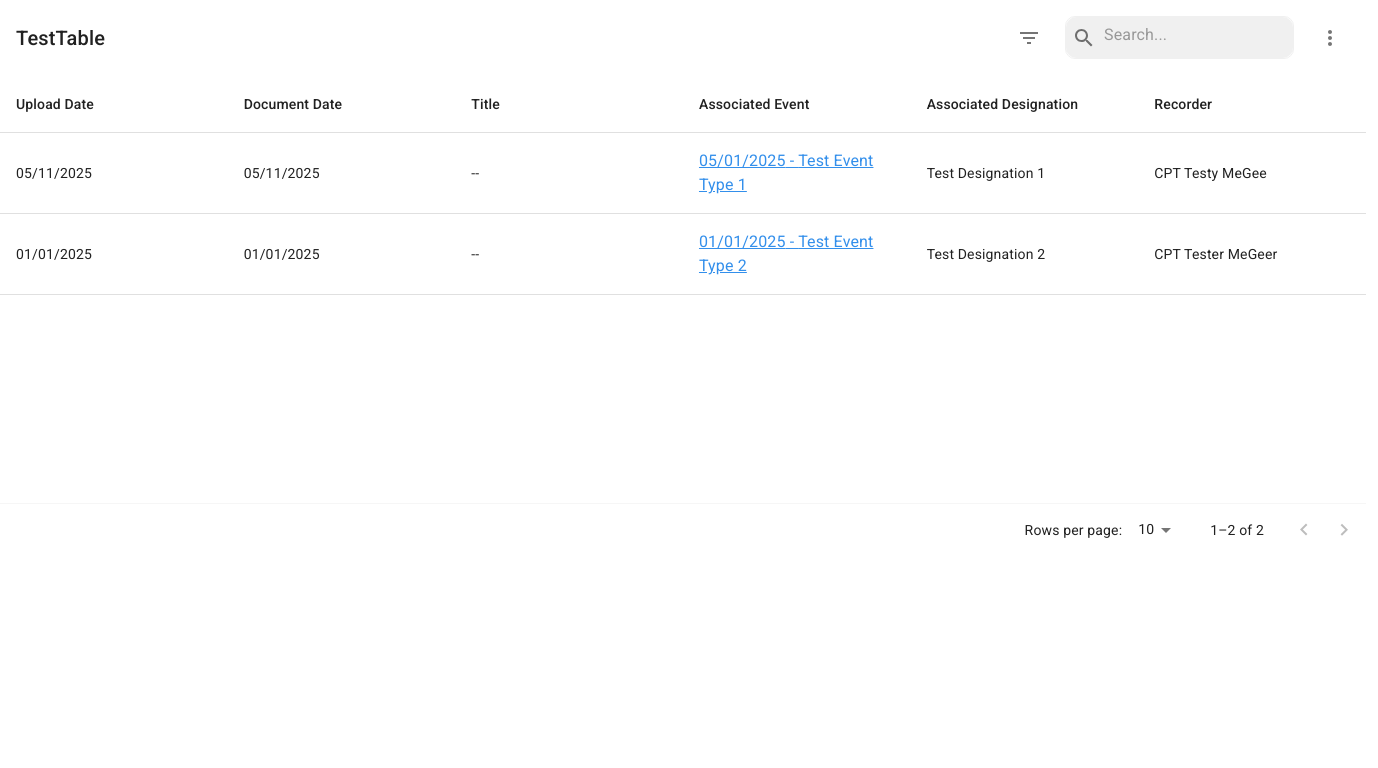
Scenario: AmtpTable Component › Suppporting Docs Table filters data based on query
The width and height of the screenshot is (1378, 768).
# Search for "Testy"
Type "Testy" into the field with placeholder "Search..." at (1196, 38), box [1104, 23, 1287, 52]
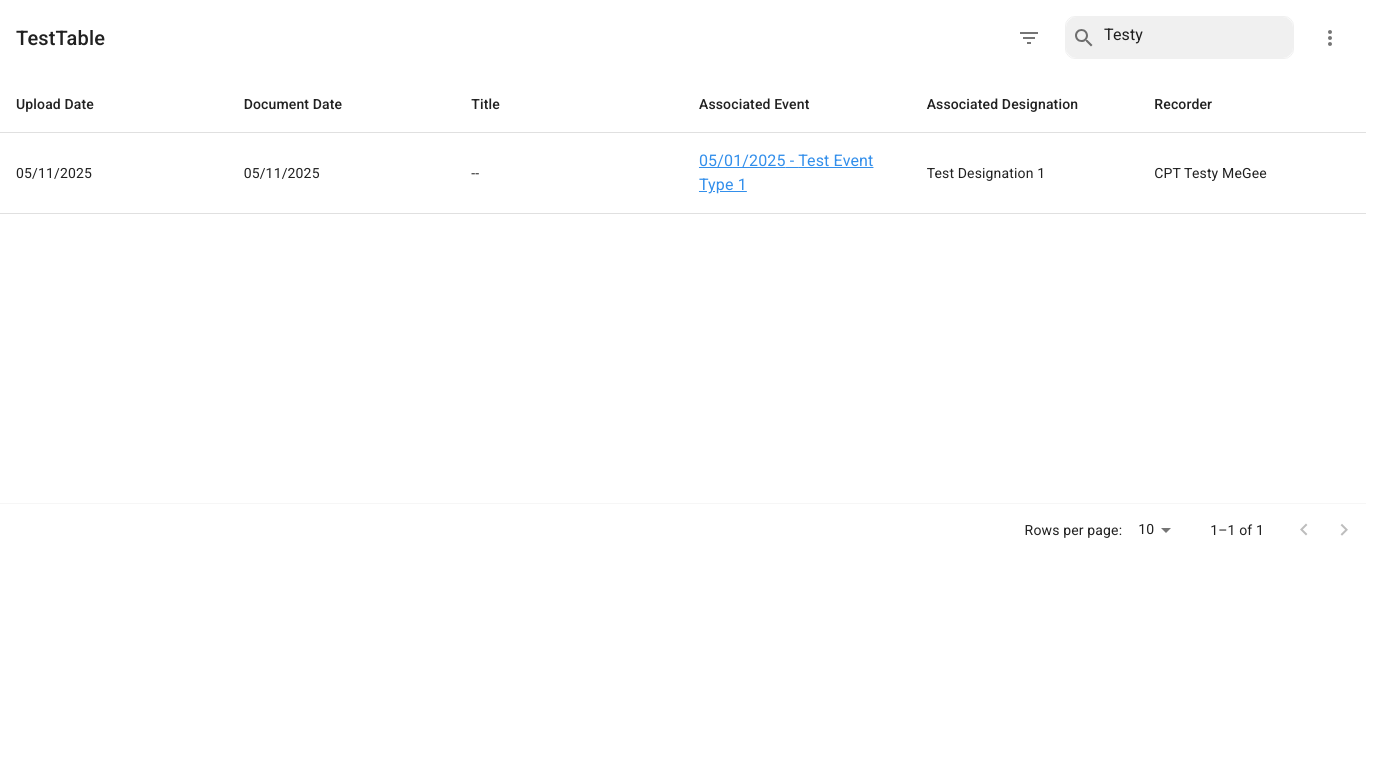
Expected: the text "CPT Testy MeGee" is shown, [1154, 165, 1267, 181]
Result: the number of rows is 2 at [0, 75, 1366, 133]; [0, 133, 1366, 214]
Result: the text "CPT Tester MeGeer" is gone
